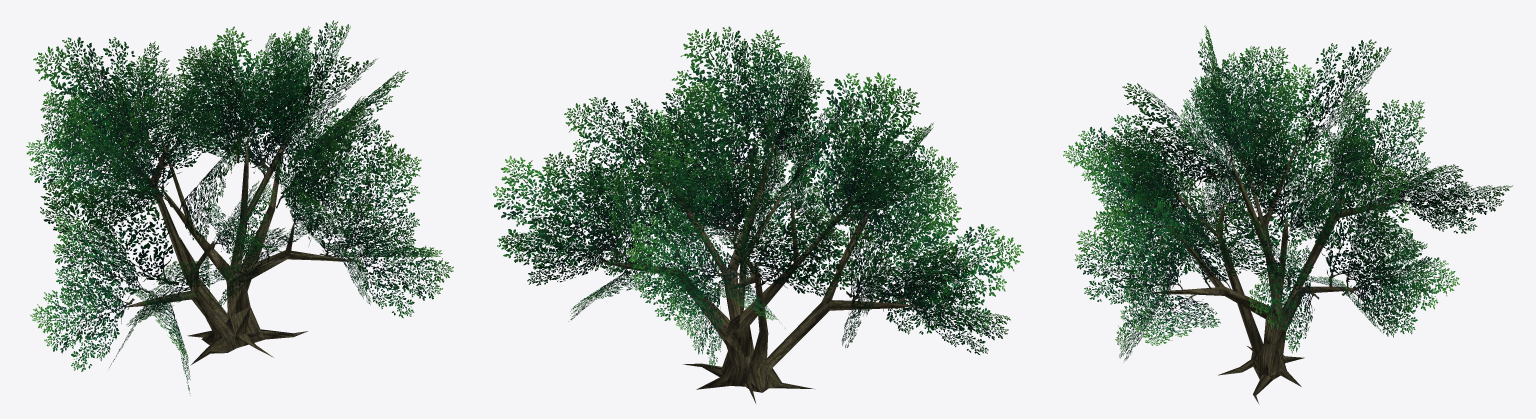
Rendered from Utility_Tree10_LOD2.FBX.
3 renders of one model, left to right at view 1: azimuth 30°, elevation 25°; view 2: azimuth 150°, elevation 25°; view 3: azimuth 270°, elevation 25°, orthographic. The views are drawn at different scales.
Visible parts, largest first — view 1: cmc_shu10_02_LOD2, cmc_shu10_01_LOD2; view 2: cmc_shu10_02_LOD2, cmc_shu10_01_LOD2; view 3: cmc_shu10_02_LOD2, cmc_shu10_01_LOD2.
Part boxes in pixels (x1,y1,x2,y2): cmc_shu10_02_LOD2: [26, 20, 453, 395]; cmc_shu10_01_LOD2: [123, 120, 355, 365]; cmc_shu10_02_LOD2: [493, 26, 1023, 367]; cmc_shu10_01_LOD2: [602, 147, 915, 403]; cmc_shu10_02_LOD2: [1063, 25, 1512, 362]; cmc_shu10_01_LOD2: [1150, 135, 1398, 404].
Size of the model in its own units: 2306 by 1636 by 2139.
Materials: 2 (2 with a texture image).
